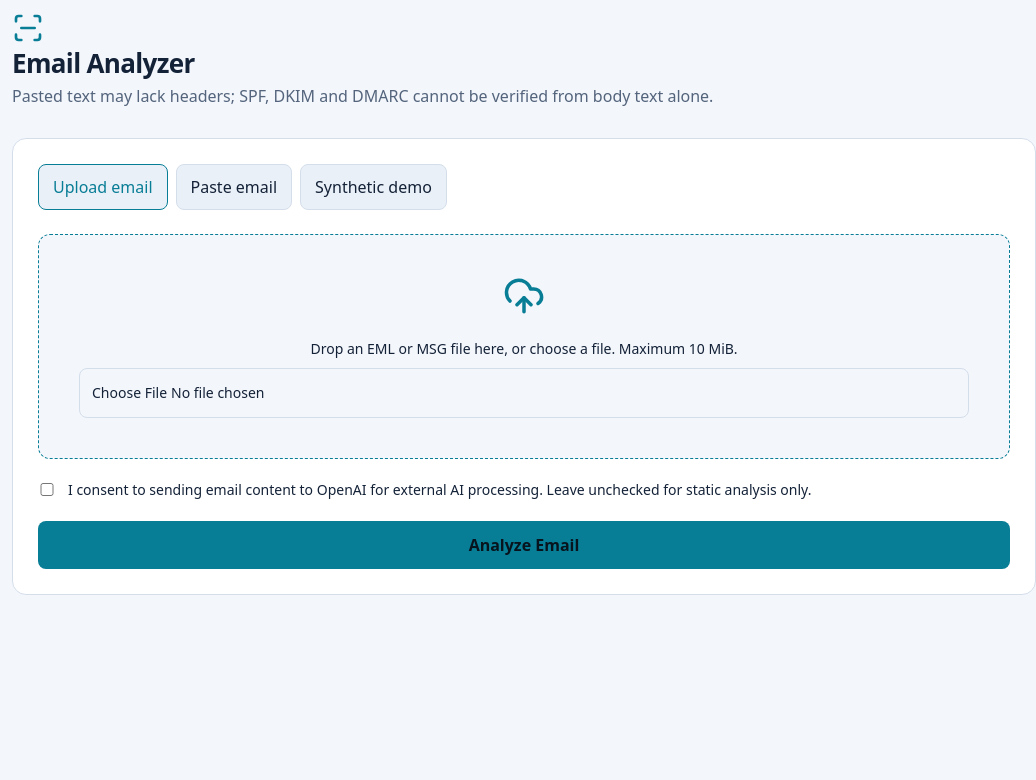
interface › labels demo as synthetic and predefined
Click the button "Synthetic demo" at (373, 187), box x1=300 y1=164 x2=447 y2=210
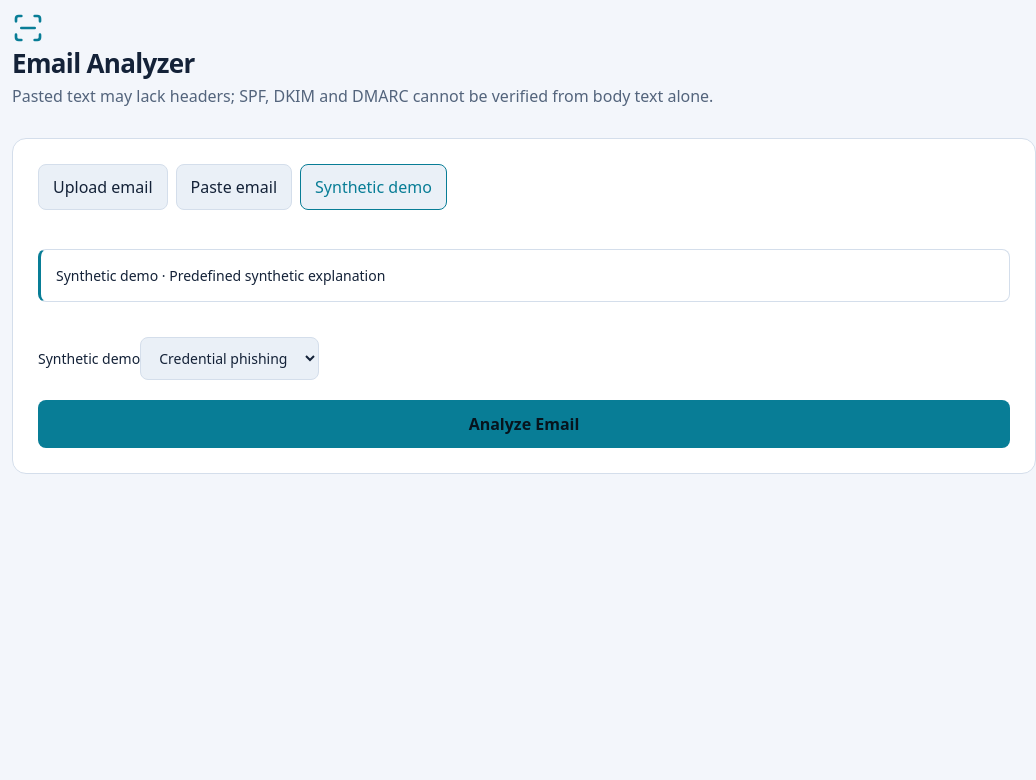
Expected: the text "Synthetic demo · Predefined synthetic explanation" is shown, x1=38 y1=249 x2=1010 y2=302
